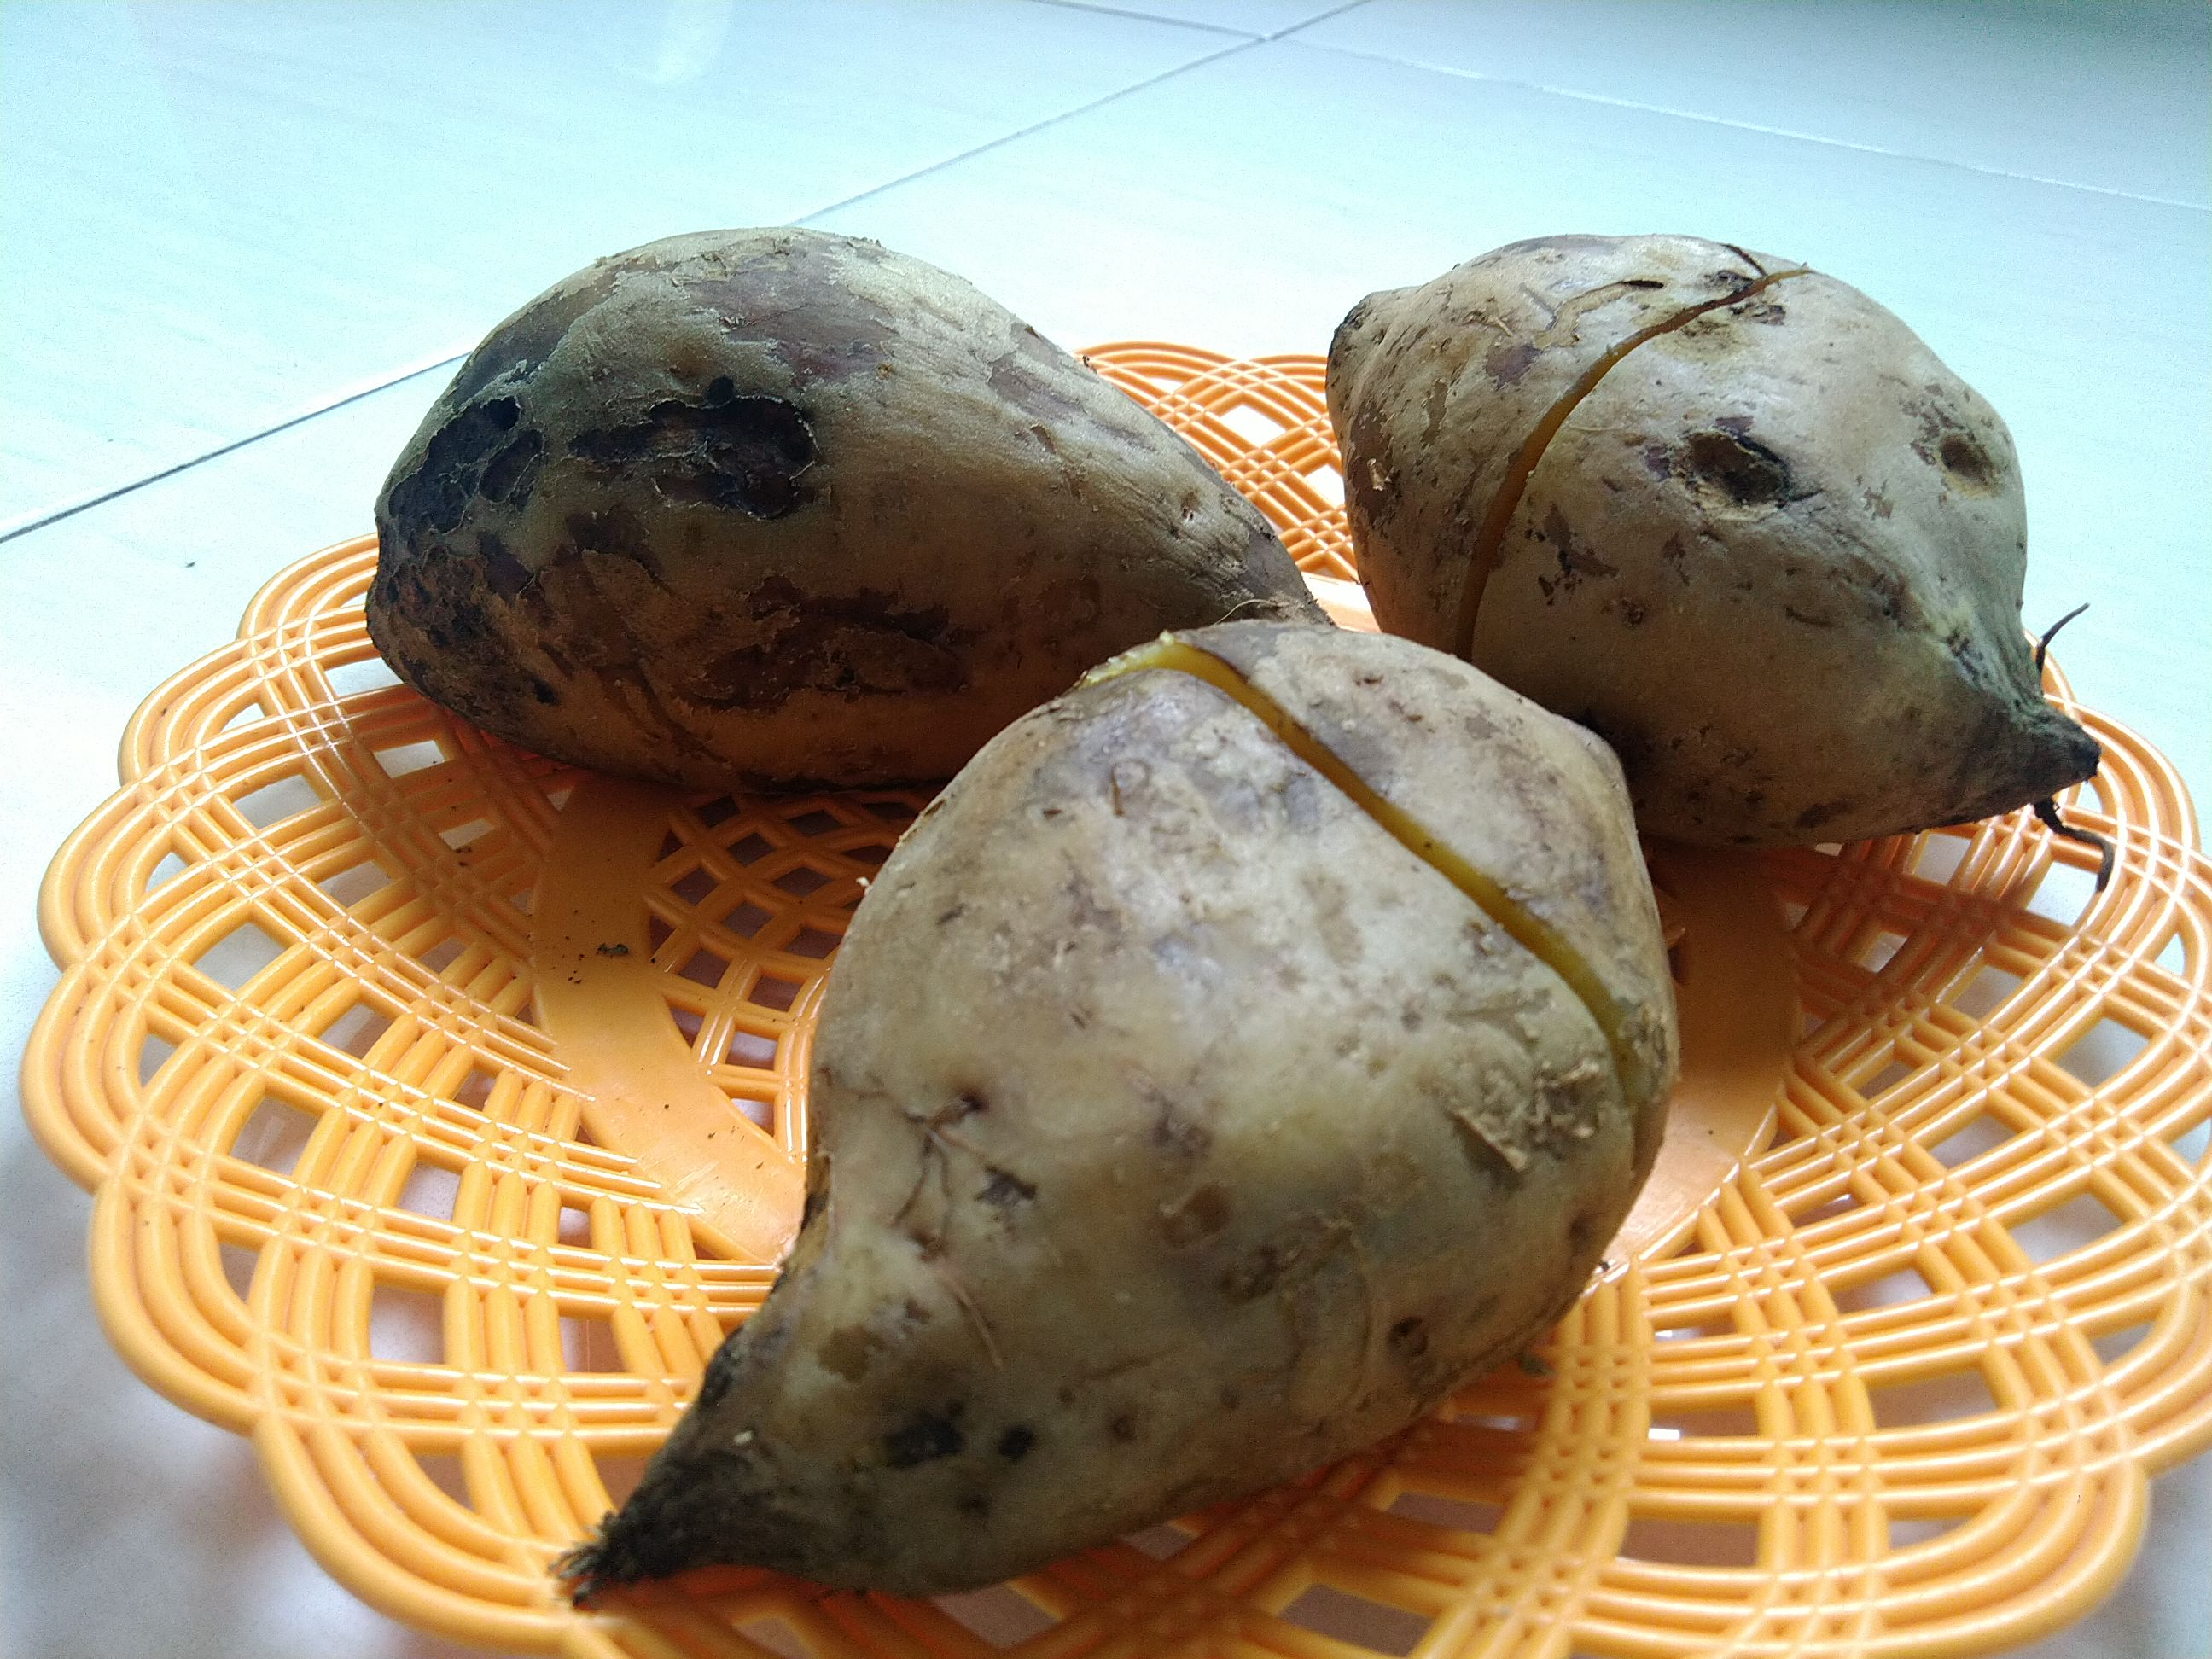ubi kuning: (529, 622, 1710, 1622), (371, 193, 1336, 788), (1305, 220, 2118, 889)
